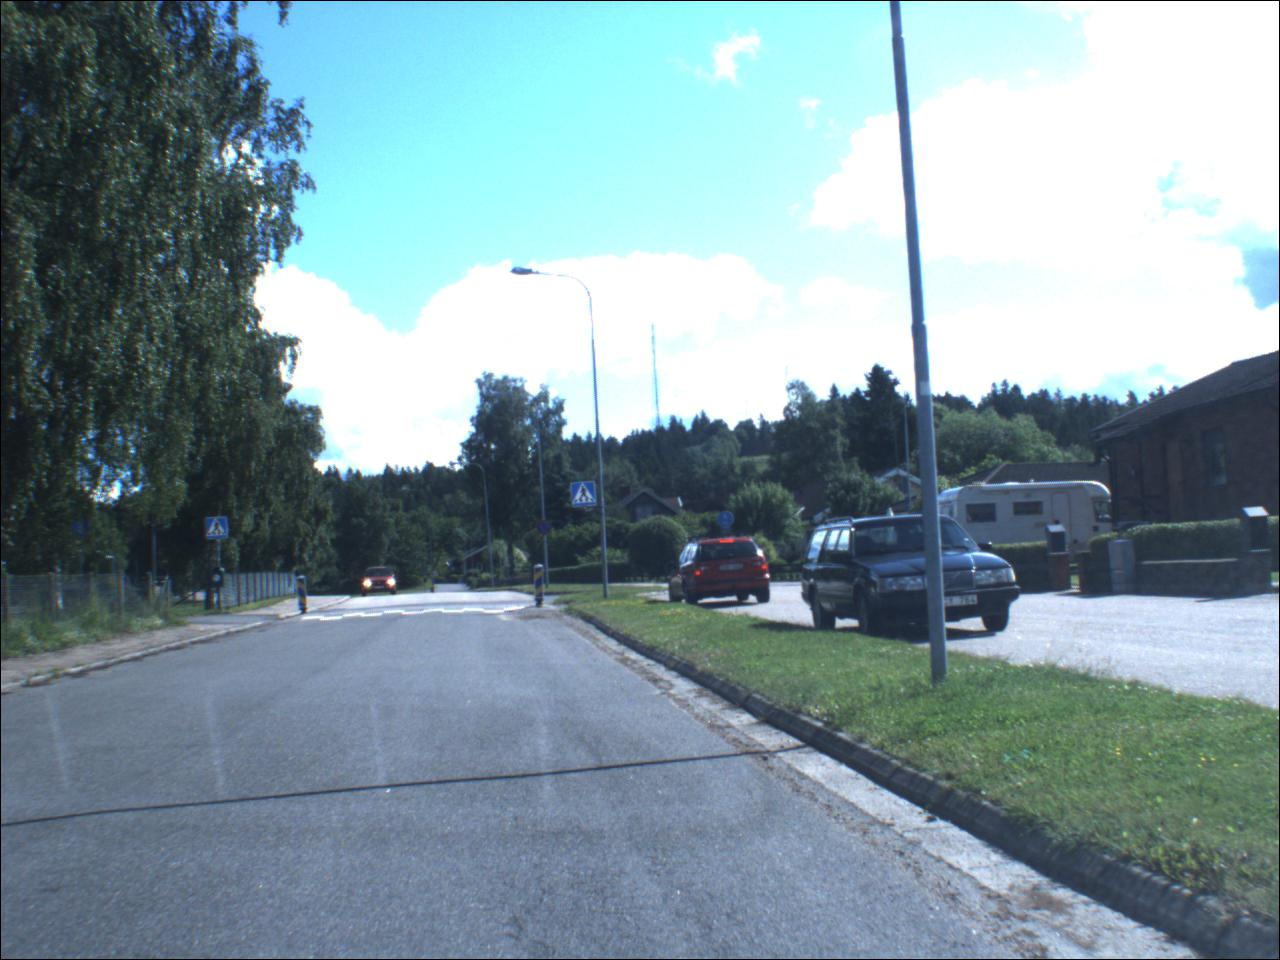NO_PARKING: (538, 522, 555, 539)
PEDESTRIAN_CROSSING: (572, 483, 600, 509), (207, 519, 231, 542)
